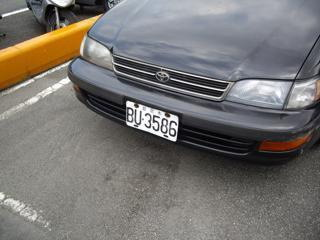plate: (124, 97, 181, 145)
